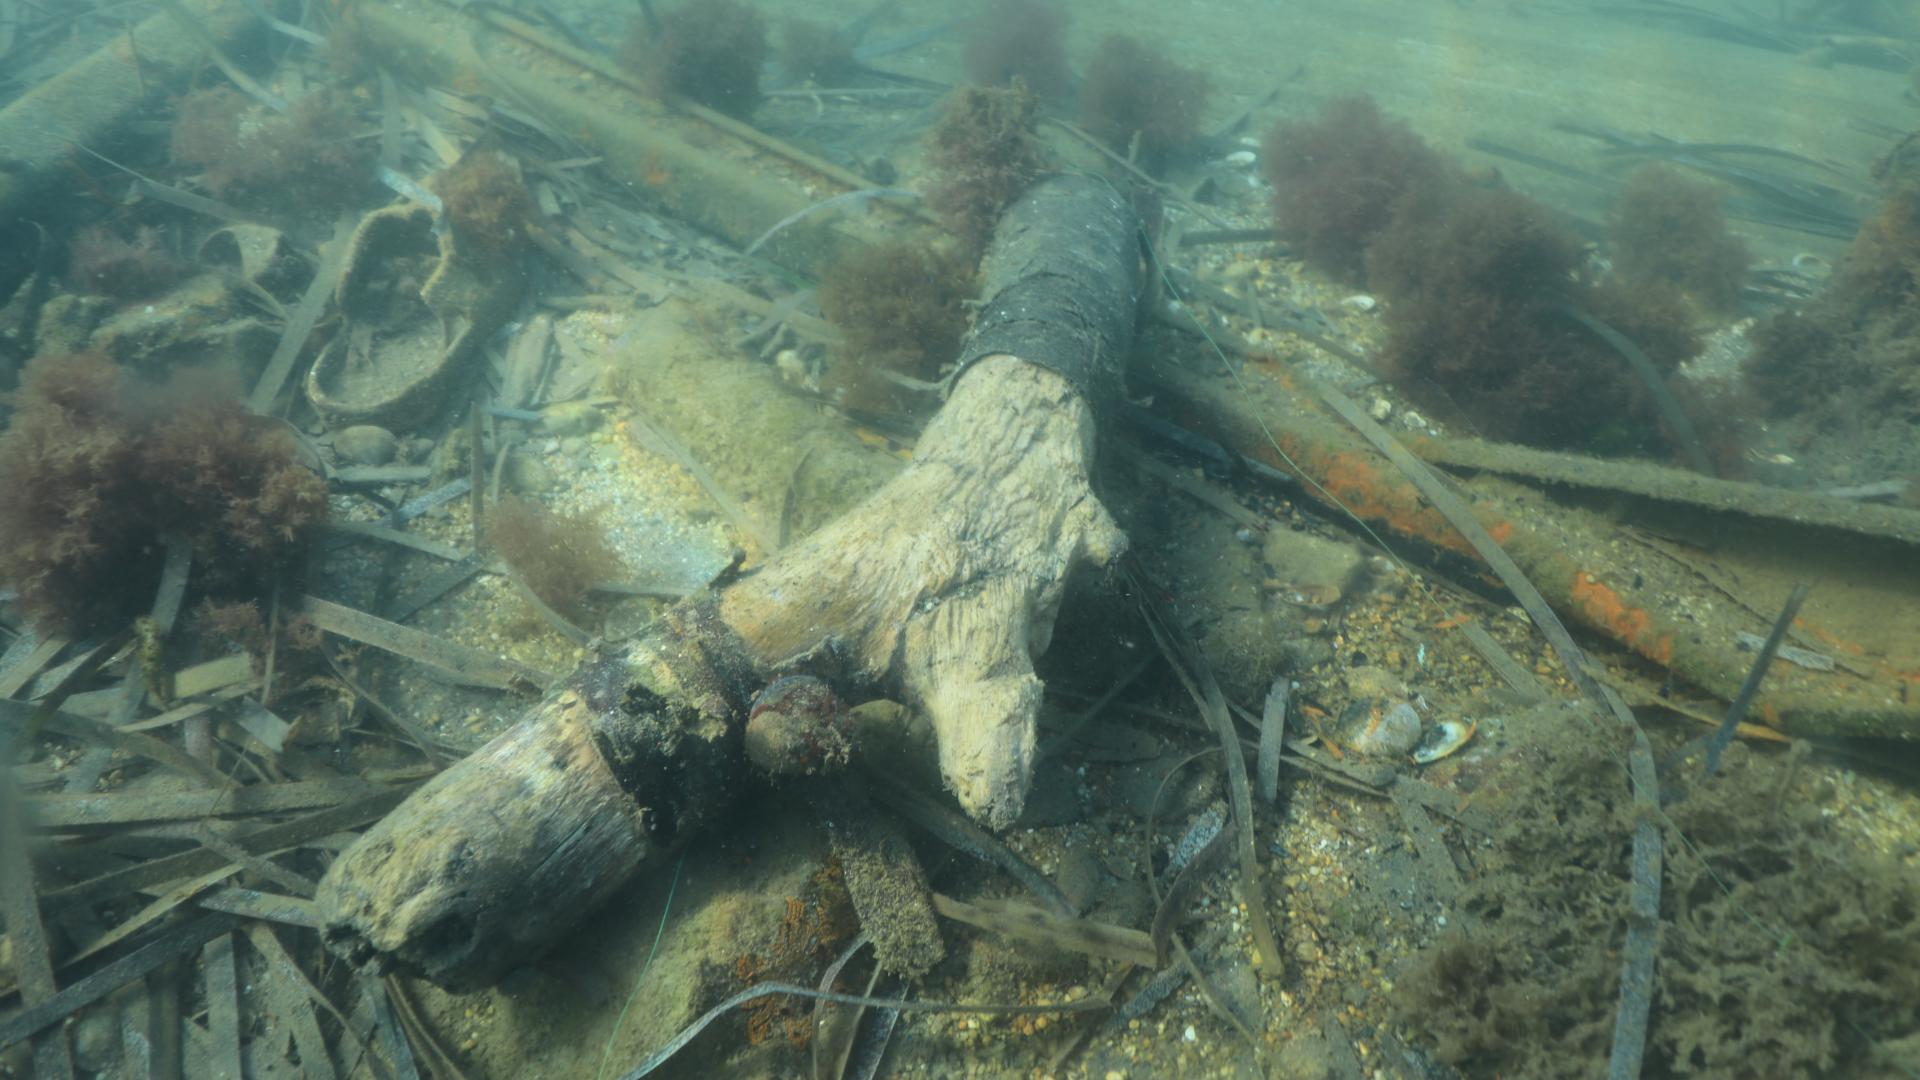wood: (301, 178, 1162, 1011)
